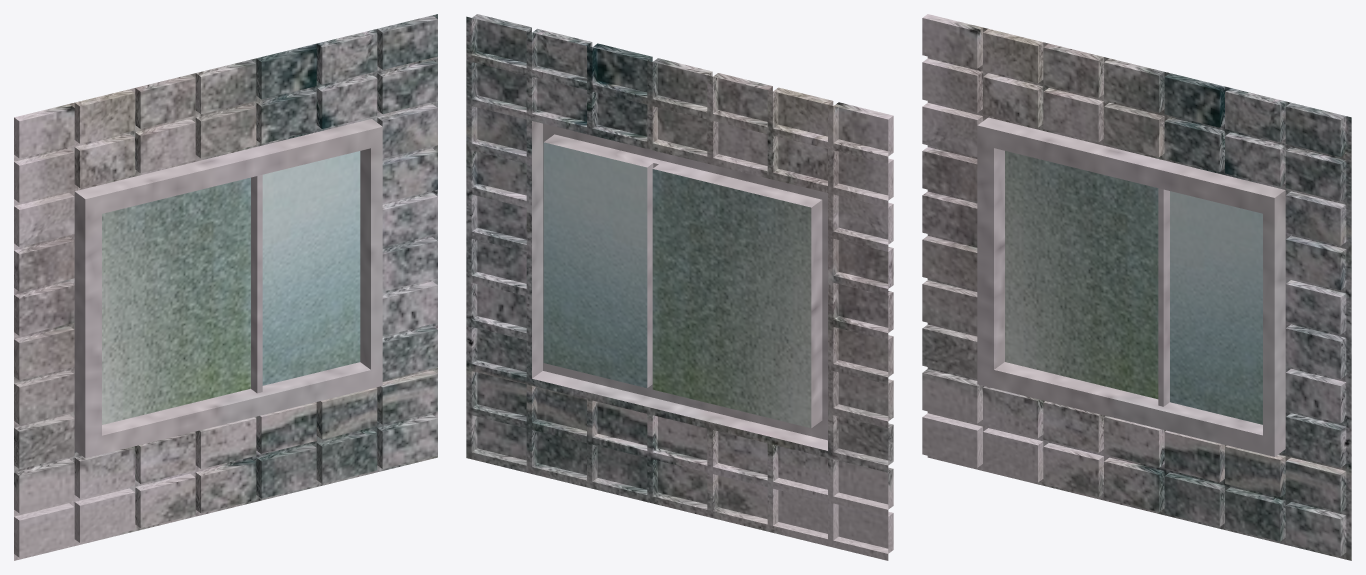
File: Ventana_02.fbx
3 views of the same model, side by side, from view 1: azimuth 30°, elevation 25°; view 2: azimuth 150°, elevation 25°; view 3: azimuth 330°, elevation 25° (orthographic).
Parts seen in each view (by area): view 1: Plane; view 2: Plane; view 3: Plane.
Boxes of the visible parts, <box> form: Plane: <box>14,14,437,560</box>; Plane: <box>466,14,893,560</box>; Plane: <box>922,14,1351,560</box>.
Size of the model in its own units: 600 by 600 by 26.61.
